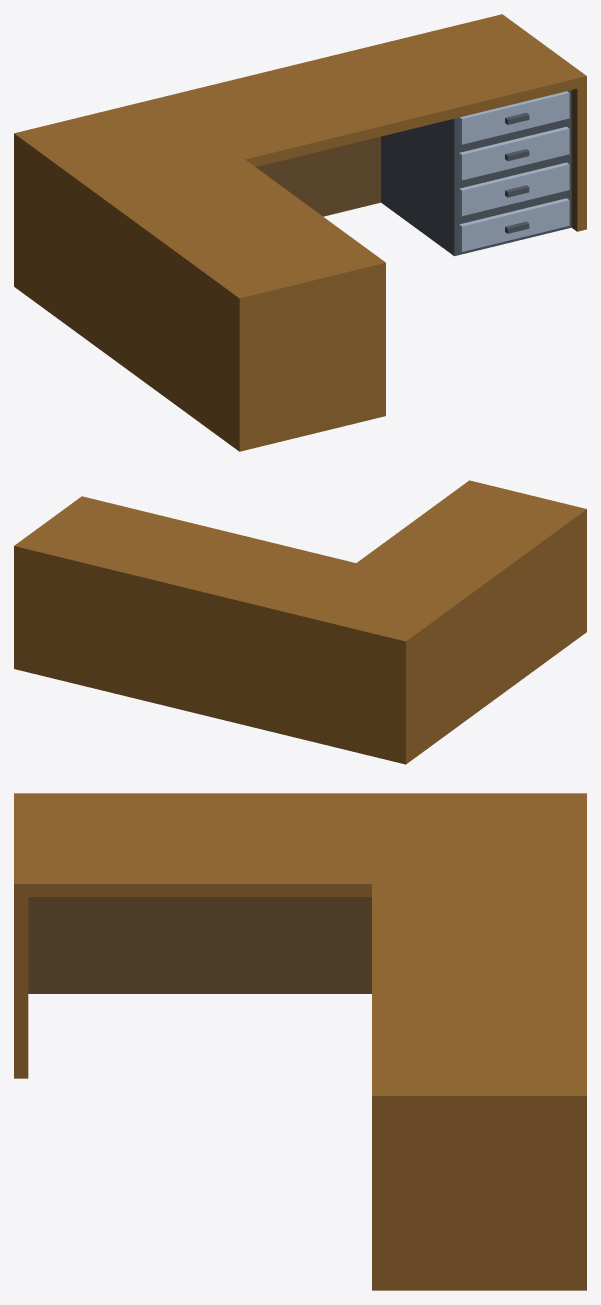
The model's file is Table.fbx.
3 renders of one model, top to bottom at view 1: azimuth 30°, elevation 25°; view 2: azimuth 150°, elevation 25°; view 3: azimuth 270°, elevation 25°, orthographic. The views are drawn at different scales.
Parts seen in each view (by area): view 1: Table; view 2: Table; view 3: Table.
Boxes of the visible parts, x1=… form: Table: x1=14, y1=14, x2=586, y2=451; Table: x1=14, y1=480, x2=586, y2=764; Table: x1=14, y1=793, x2=586, y2=1290.
Bounding box in the file's own units: 500 × 150 × 400.
